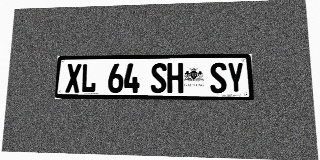4: (124, 63, 140, 93)
6: (108, 63, 124, 93)
H: (167, 63, 183, 93)
L: (81, 64, 97, 93)
S: (210, 62, 227, 93), (151, 63, 167, 93)
X: (65, 64, 81, 93)
Y: (227, 62, 245, 93)
